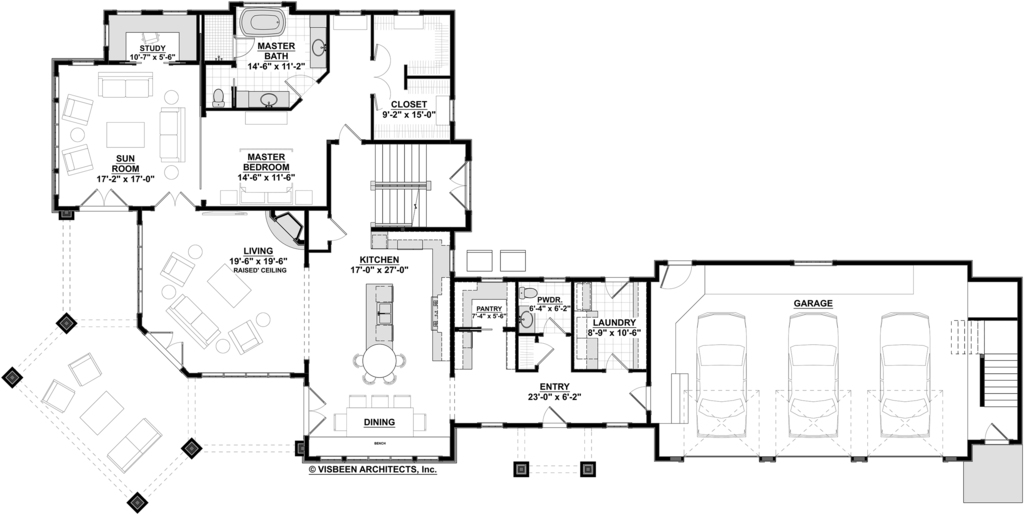dining_table: (329, 382, 435, 433)
door: (312, 208, 358, 244), (279, 65, 326, 99), (447, 158, 474, 215), (975, 419, 1014, 449), (623, 379, 655, 413), (362, 76, 394, 109), (536, 400, 570, 430), (539, 317, 575, 345), (368, 43, 395, 77), (332, 122, 366, 147), (658, 261, 689, 288), (597, 273, 630, 297), (530, 341, 558, 369), (601, 349, 630, 376)
kitchen_bar: (360, 282, 402, 345)
large_sink: (204, 80, 231, 114), (517, 275, 548, 302)
large_sofa: (88, 417, 180, 475), (162, 293, 224, 351), (153, 102, 192, 168), (93, 66, 158, 103)
round_table: (349, 342, 409, 382)
small_sink: (307, 19, 334, 62), (250, 86, 289, 113), (509, 299, 538, 335)
small_sofa: (29, 380, 80, 419), (63, 350, 109, 387), (159, 253, 207, 287), (57, 91, 99, 128), (222, 320, 269, 353), (57, 144, 94, 178)
stairs: (367, 139, 442, 227), (970, 342, 1024, 410), (142, 320, 192, 367), (78, 184, 131, 213), (302, 383, 326, 431), (148, 188, 197, 211), (228, 35, 254, 59)
tub: (234, 6, 292, 35)
